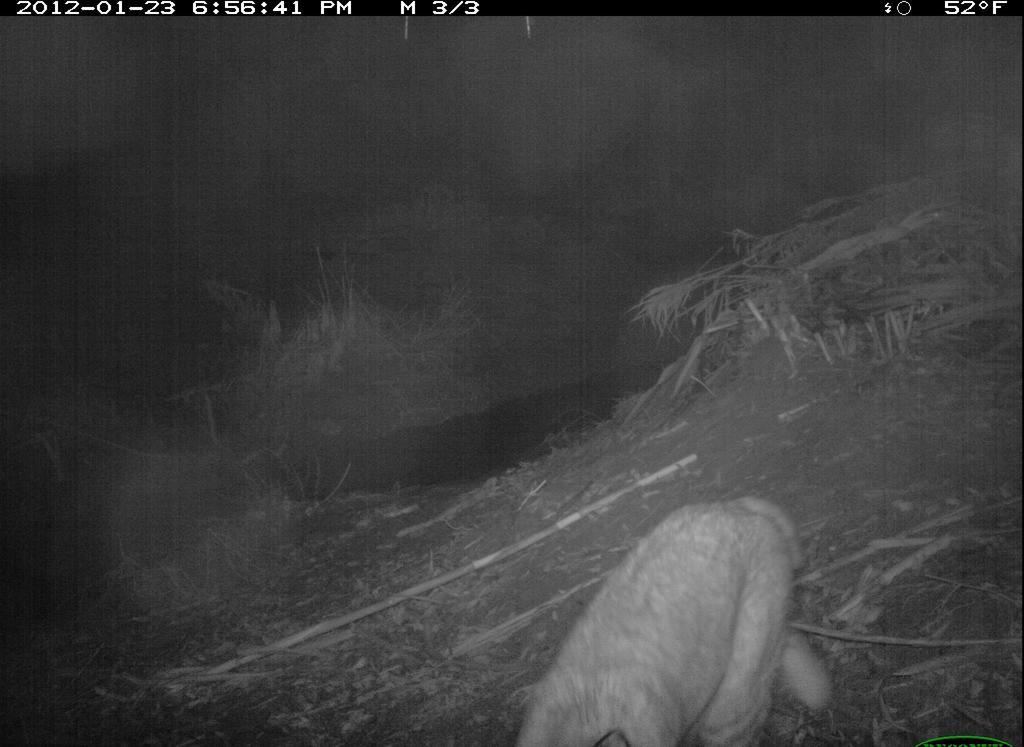bobcat: (507, 468, 858, 745)
